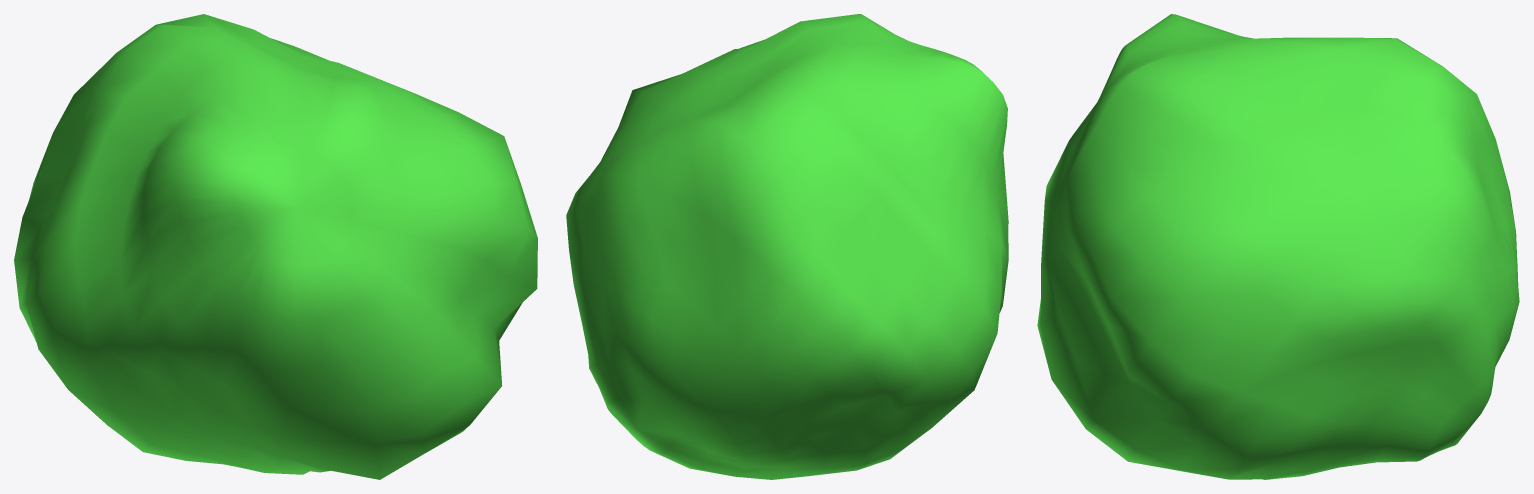
Rendered from folhasdearvore1.fbx.
3 renders of one model, left to right at view 1: azimuth 30°, elevation 25°; view 2: azimuth 150°, elevation 25°; view 3: azimuth 270°, elevation 25°, orthographic. The views are drawn at different scales.
Parts seen in each view (by area): view 1: folhasdearvore1; view 2: folhasdearvore1; view 3: folhasdearvore1.
Boxes of the visible parts, <box> form: folhasdearvore1: <box>14,14,537,479</box>; folhasdearvore1: <box>566,14,1008,479</box>; folhasdearvore1: <box>1037,14,1519,479</box>.
Size of the model in its own units: 803 by 748 by 788.
